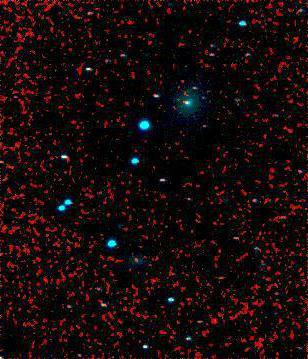star: (173, 91, 203, 121)
